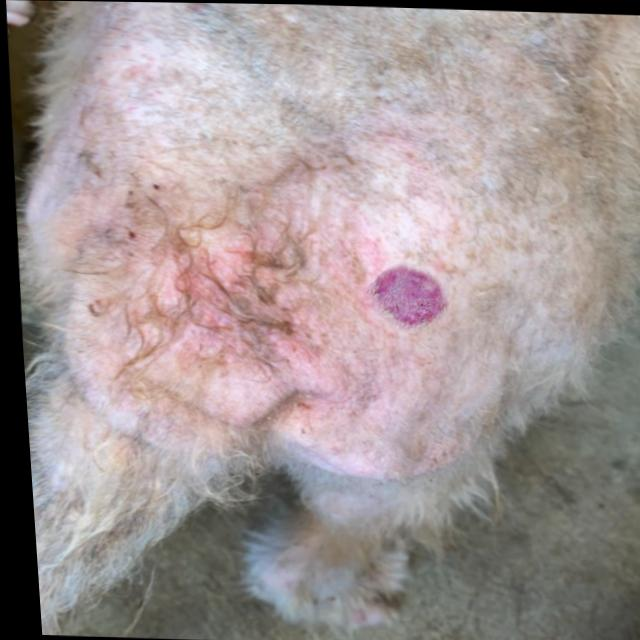ringworm: (363, 258, 440, 329)
